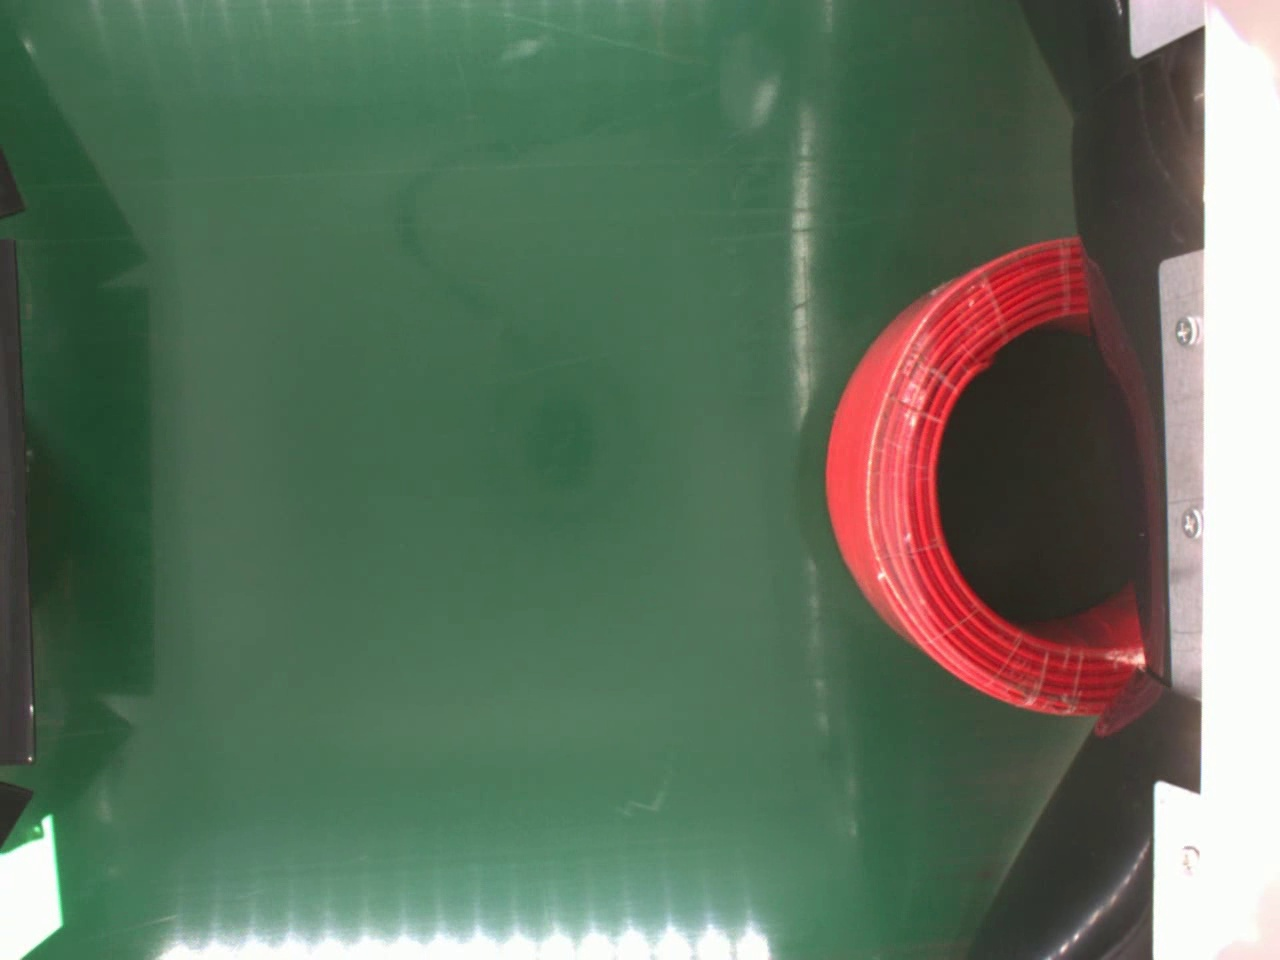red: (821, 234, 1143, 718)
